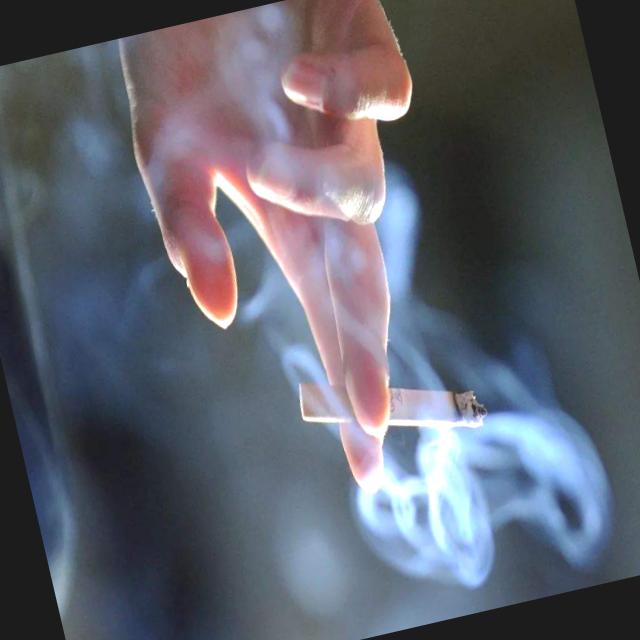cigarette: (382, 363, 492, 456)
